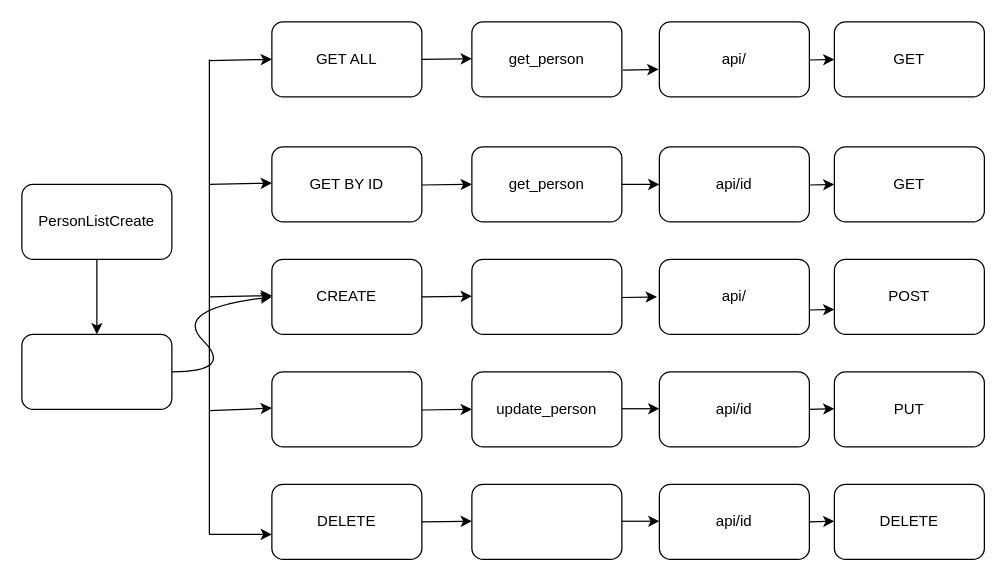
This 1006x581 diagram has some shape labels left out. Each missing label, with the centre of its shape:
"create_person" belongs at pixel 546 296.
"delete_person" belongs at pixel 546 521.
"PersonRetrieveUpdateDestroy" belongs at pixel 96 371.
"UPDATE" belongs at pixel 346 409.
